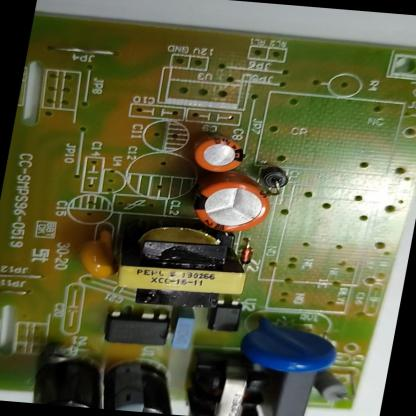Cap1: (178, 172, 281, 236)
Cap2: (181, 129, 251, 179)
Cap3: (98, 353, 191, 415)
Cap4: (24, 344, 117, 409)
MOSFET: (96, 305, 178, 351)
Mov: (224, 311, 354, 381)
Resistor: (309, 364, 362, 408)
Transformer: (104, 208, 260, 304), (179, 338, 281, 416)
